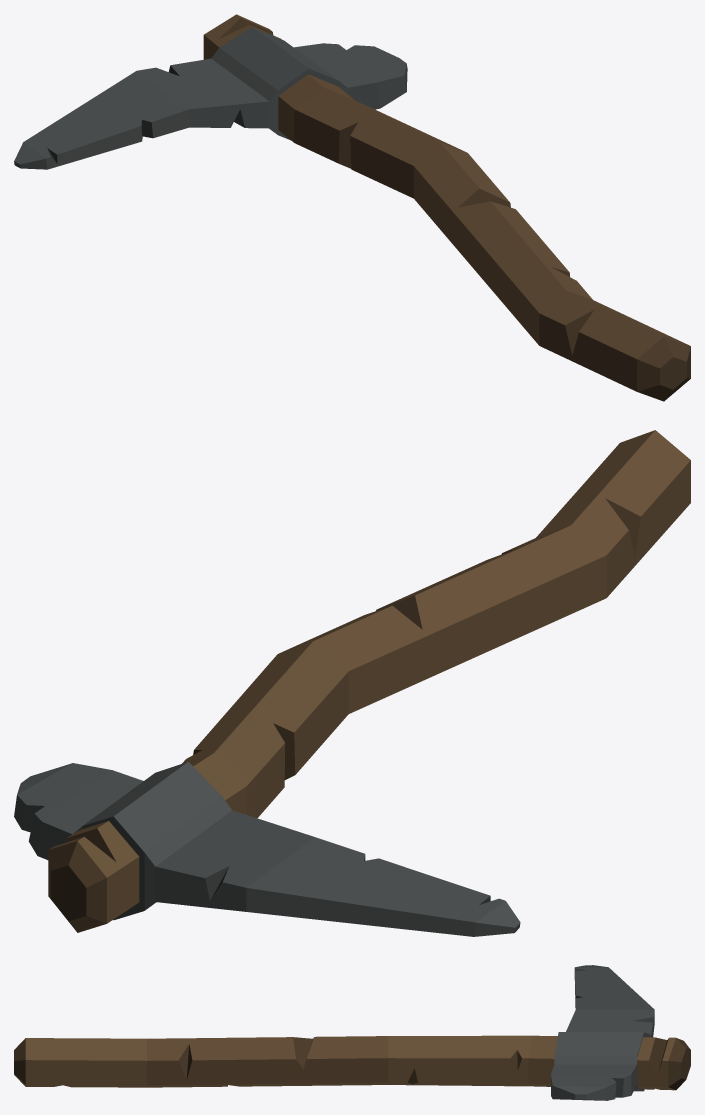
File: Pickaxe_3_Brown.fbx
The picture shows the model from 3 angles, top to bottom: view 1: azimuth 30°, elevation 25°; view 2: azimuth 150°, elevation 25°; view 3: azimuth 270°, elevation 25°; orthographic projection. The views are drawn at different scales.
Visible parts, largest first — view 1: Pickaxe_3_Brown_Part_1, Pickaxe_3_Brown_Part_2, Pickaxe_3_Brown_Part_3; view 2: Pickaxe_3_Brown_Part_1, Pickaxe_3_Brown_Part_2, Pickaxe_3_Brown_Part_3; view 3: Pickaxe_3_Brown_Part_1, Pickaxe_3_Brown_Part_2, Pickaxe_3_Brown_Part_3, Pickaxe_3_Brown_Part_4.
Part boxes in pixels (x1=…): Pickaxe_3_Brown_Part_1: x1=203, y1=14, x2=688, y2=391; Pickaxe_3_Brown_Part_2: x1=14, y1=27, x2=407, y2=169; Pickaxe_3_Brown_Part_3: x1=219, y1=18, x2=690, y2=401; Pickaxe_3_Brown_Part_1: x1=49, y1=430, x2=690, y2=923; Pickaxe_3_Brown_Part_2: x1=14, y1=761, x2=520, y2=936; Pickaxe_3_Brown_Part_3: x1=48, y1=498, x2=640, y2=932; Pickaxe_3_Brown_Part_1: x1=25, y1=1035, x2=675, y2=1090; Pickaxe_3_Brown_Part_2: x1=551, y1=965, x2=654, y2=1100; Pickaxe_3_Brown_Part_3: x1=14, y1=1037, x2=690, y2=1089; Pickaxe_3_Brown_Part_4: x1=574, y1=968, x2=653, y2=1097.
Bounding box in the file's own units: 24.49 × 5.28 × 50.13.
